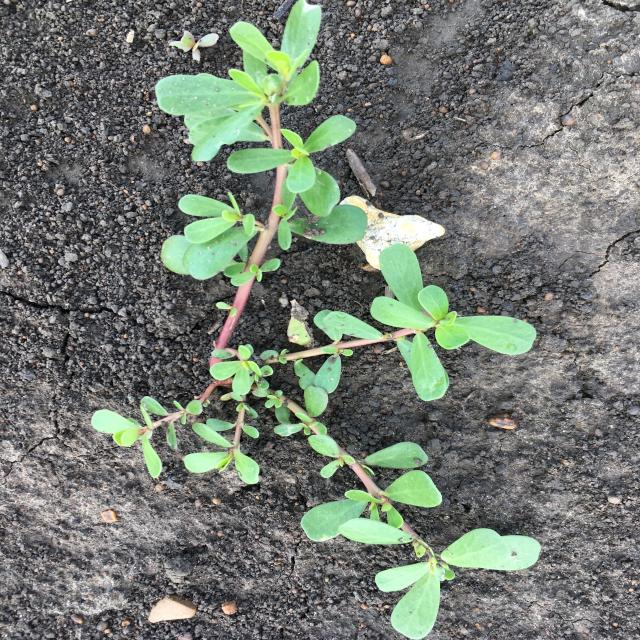Purslane: (90, 1, 542, 639), (169, 31, 219, 62)
